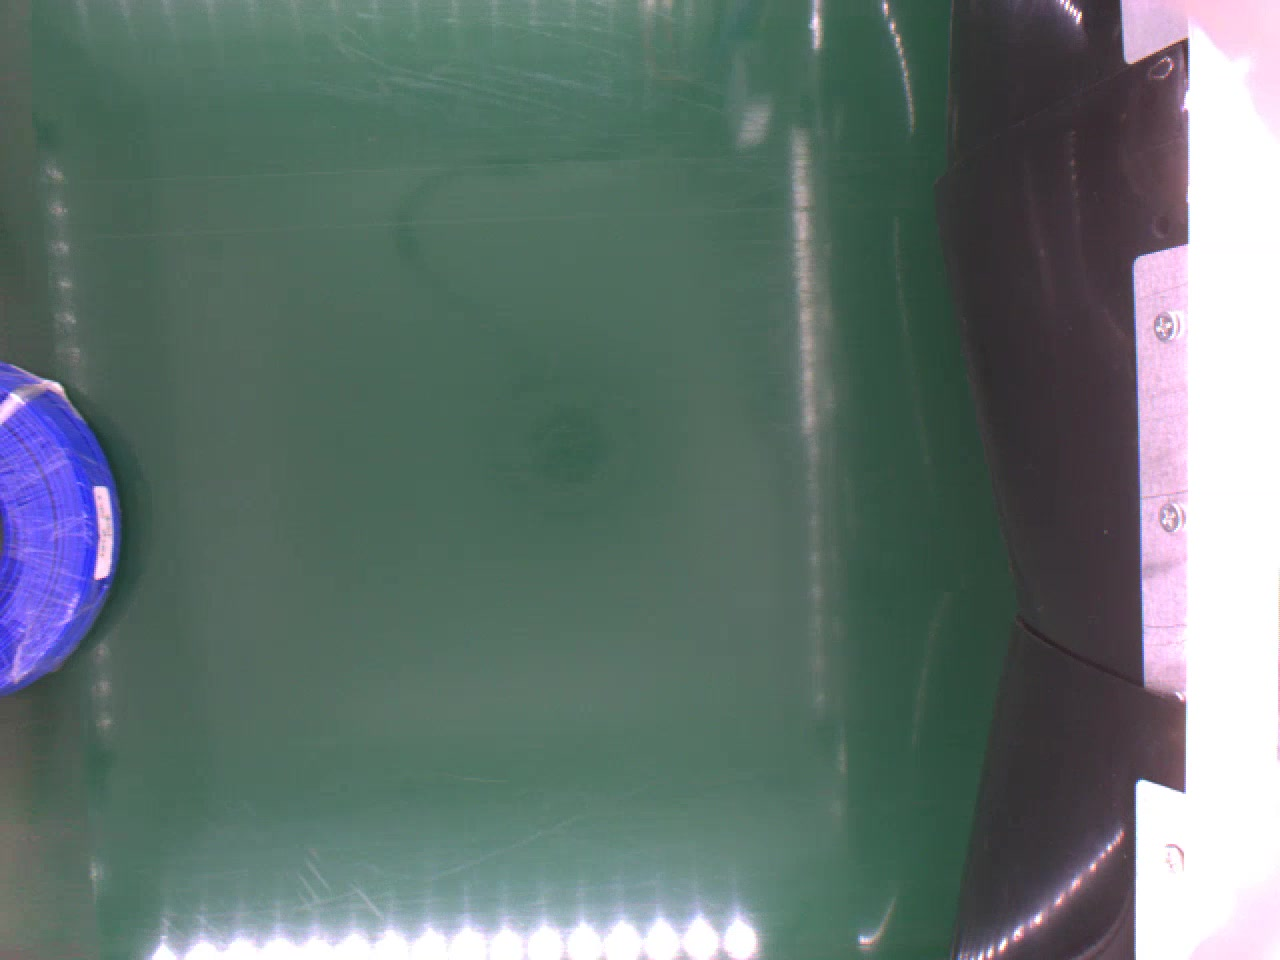blue: (0, 358, 121, 696)
